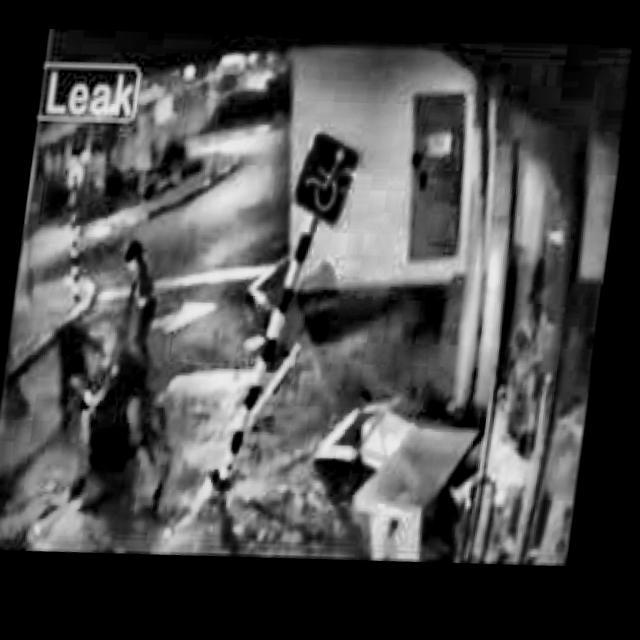Weapon: (31, 233, 214, 547)
